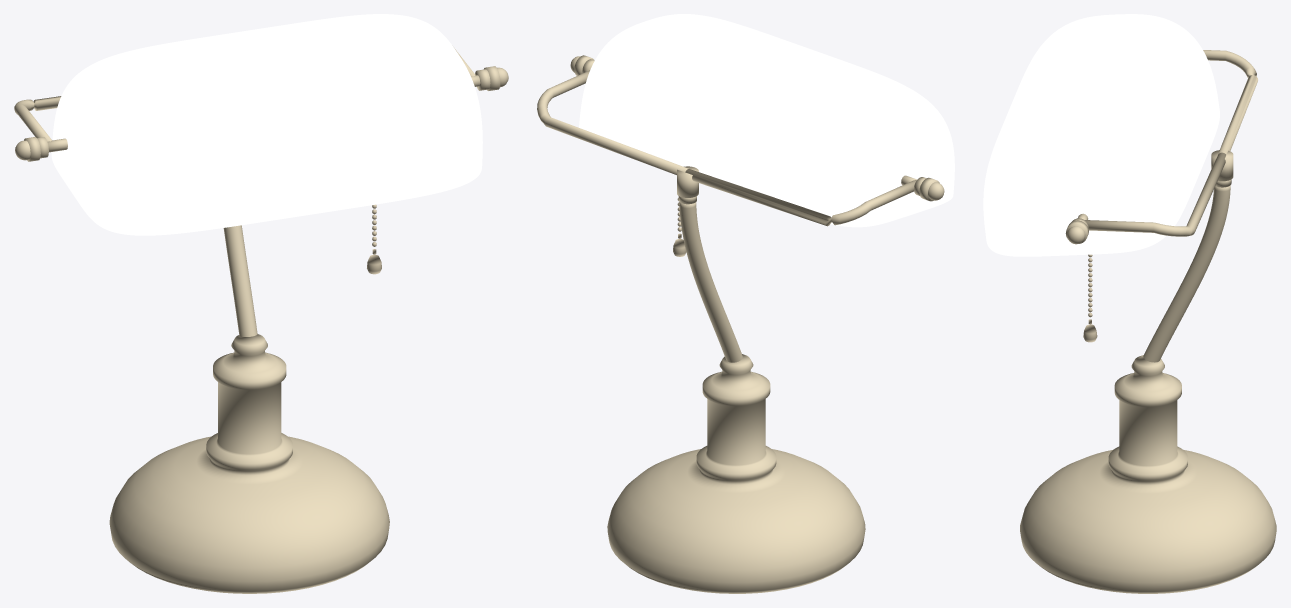
File: BankerLamp.glb
3 renders of one model, left to right at view 1: azimuth 30°, elevation 25°; view 2: azimuth 150°, elevation 25°; view 3: azimuth 270°, elevation 25°, orthographic. The views are drawn at different scales.
Parts seen in each view (by area): view 1: Lamp_Shade, Lamp_Base, Lamp_ShadeHolder, Lamp_Stem; view 2: Lamp_Shade, Lamp_Base, Lamp_ShadeHolder, Lamp_Stem; view 3: Lamp_Shade, Lamp_Base, Lamp_ShadeHolder, Lamp_Stem, Lamp_PullChain.
Boxes of the visible parts, bbox=[...] form: Lamp_Shade: bbox=[51, 14, 482, 235]; Lamp_Base: bbox=[109, 334, 389, 593]; Lamp_ShadeHolder: bbox=[14, 48, 508, 161]; Lamp_Stem: bbox=[223, 225, 257, 336]; Lamp_Shade: bbox=[579, 14, 954, 227]; Lamp_Base: bbox=[607, 354, 865, 593]; Lamp_ShadeHolder: bbox=[537, 55, 944, 226]; Lamp_Stem: bbox=[679, 202, 742, 362]; Lamp_Shade: bbox=[983, 14, 1219, 256]; Lamp_Base: bbox=[1020, 355, 1276, 593]; Lamp_ShadeHolder: bbox=[1065, 50, 1257, 244]; Lamp_Stem: bbox=[1143, 185, 1230, 362]; Lamp_PullChain: bbox=[1083, 254, 1097, 342].
Size of the model in its own units: 0.3092 by 0.3388 by 0.1918.
